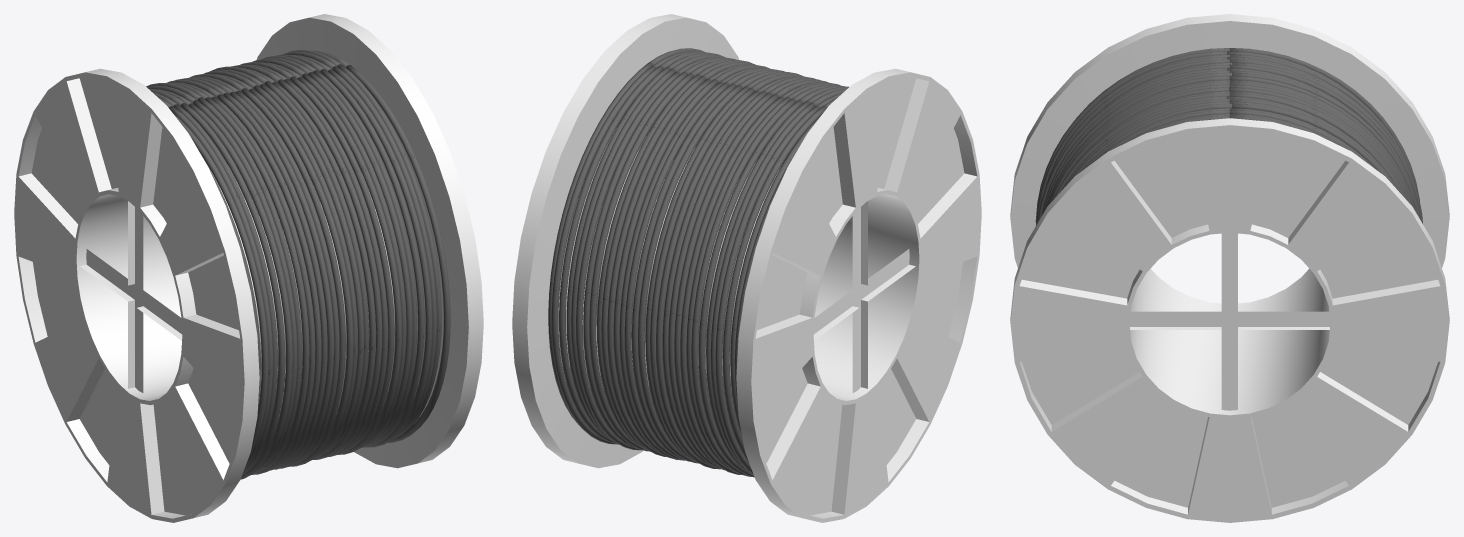
The model's file is Cat6.glb.
3 renders of one model, left to right at view 1: azimuth 30°, elevation 25°; view 2: azimuth 150°, elevation 25°; view 3: azimuth 270°, elevation 25°, orthographic. The views are drawn at different scales.
Parts seen in each view (by area): view 1: CableSpinner Gray, Cable.vertical.008; view 2: CableSpinner Gray, Cable.vertical.008; view 3: CableSpinner Gray, Cable.vertical.008.
Boxes of the visible parts, x1,y1,x2,y2 form: CableSpinner Gray: (14, 14, 483, 522); Cable.vertical.008: (146, 50, 450, 479); CableSpinner Gray: (512, 14, 981, 522); Cable.vertical.008: (548, 48, 848, 477); CableSpinner Gray: (1010, 14, 1449, 522); Cable.vertical.008: (1035, 48, 1422, 225).
Size of the model in its own units: 0.2317 by 0.3869 by 0.3869.
Materials: 2 (1 with a texture image).
